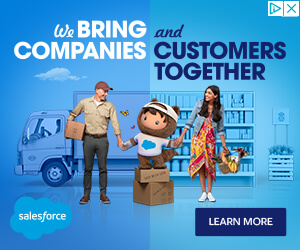fake_button: (186, 204, 293, 240), (257, 0, 300, 20)
